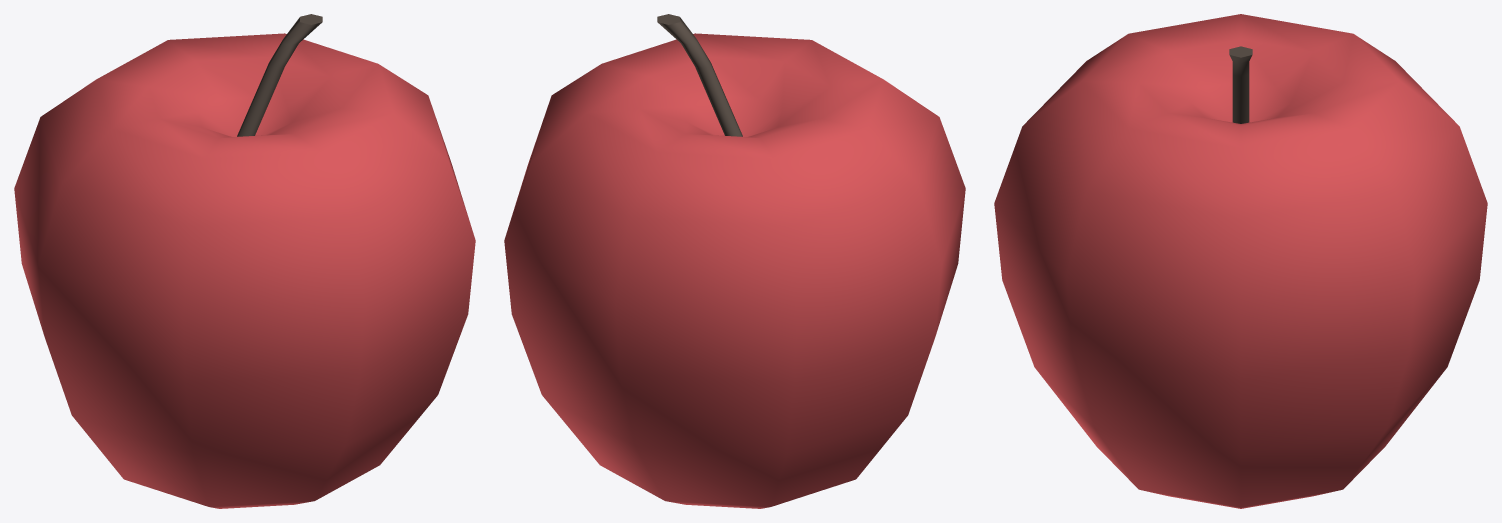
The model's file is SM_AppleStatic.fbx.
3 renders of one model, left to right at view 1: azimuth 30°, elevation 25°; view 2: azimuth 150°, elevation 25°; view 3: azimuth 270°, elevation 25°, orthographic. The views are drawn at different scales.
Parts seen in each view (by area): view 1: SM_AppleStatic; view 2: SM_AppleStatic; view 3: SM_AppleStatic.
Boxes of the visible parts, box(x1,y1,x2,y2) form: SM_AppleStatic: box(14, 14, 475, 508); SM_AppleStatic: box(504, 14, 965, 508); SM_AppleStatic: box(994, 14, 1487, 508).
Bounding box in the file's own units: 0.1 × 0.1 × 0.1.
